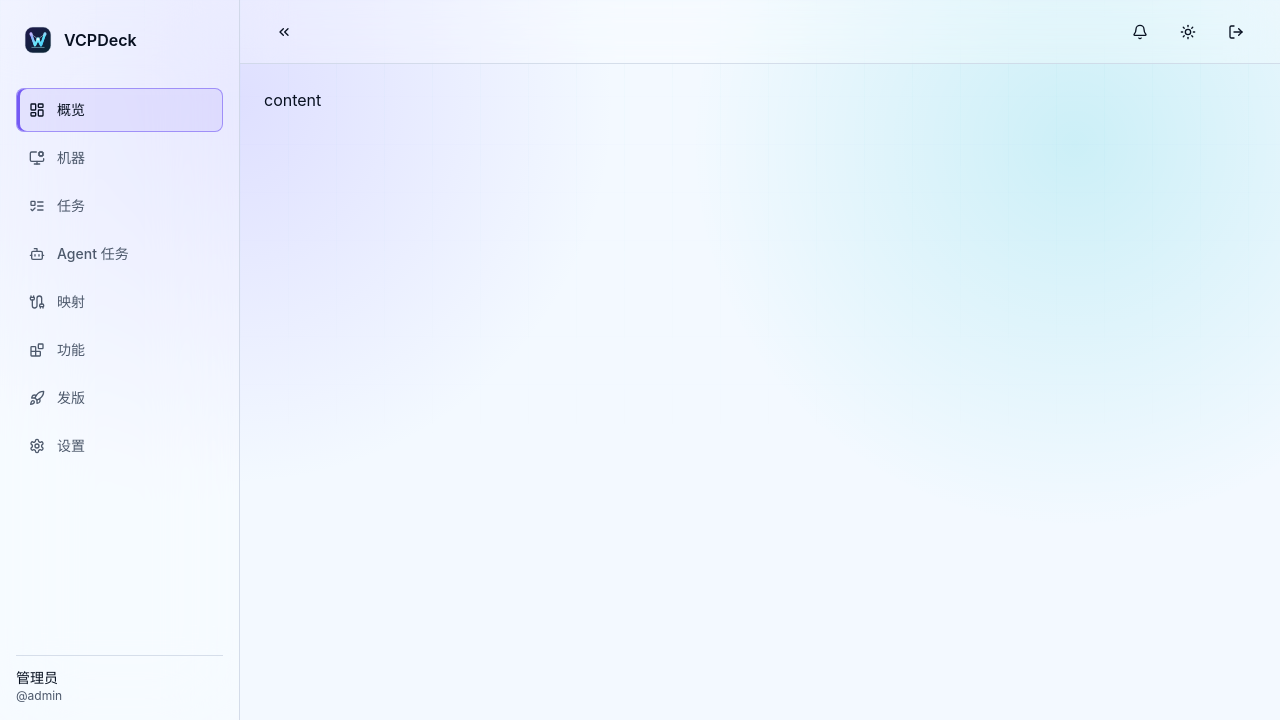
Scenario: ConsoleShell › puts the sidebar toggle outside the sidebar at the main header edge
Check: the element with test id "sidebar-footer" does not show "收起侧栏", box top-left (16, 655), bottom-right (223, 704)
Click the button named "收起侧栏".
click(284, 32)  # box top-left (264, 12), bottom-right (304, 52)
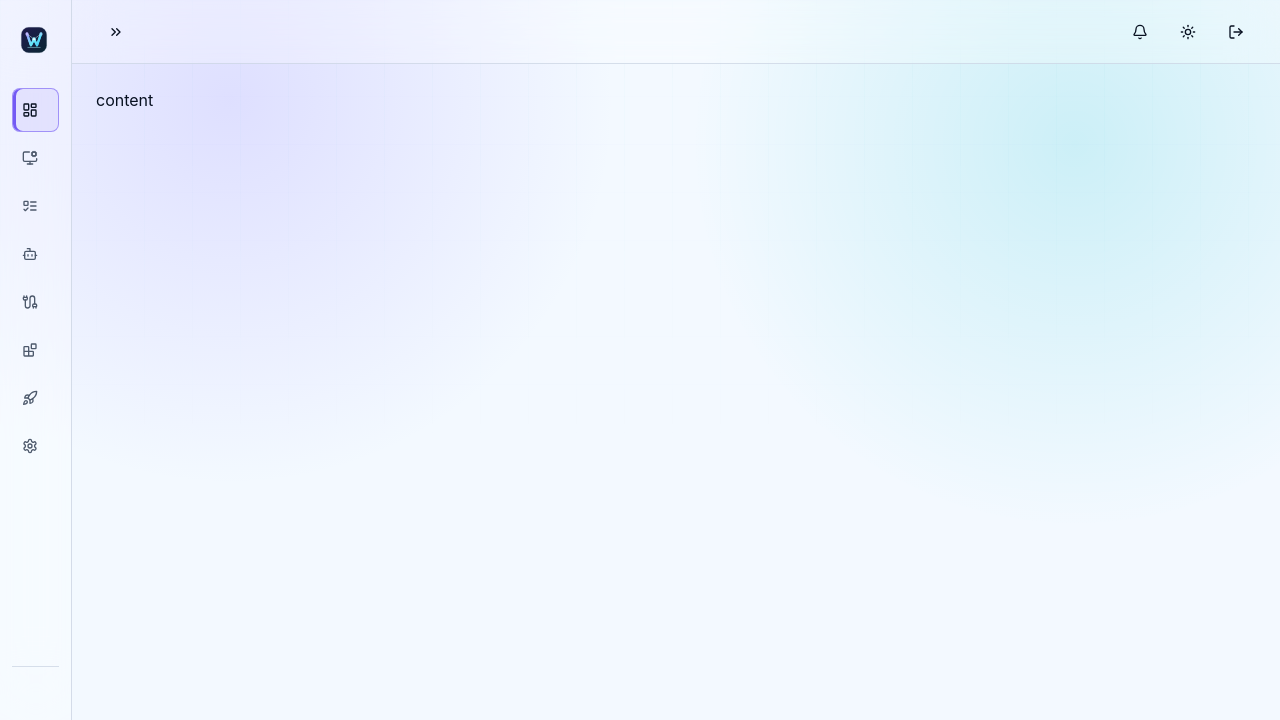
Check: the button named "展开侧栏" is shown, box top-left (96, 12), bottom-right (136, 52)
